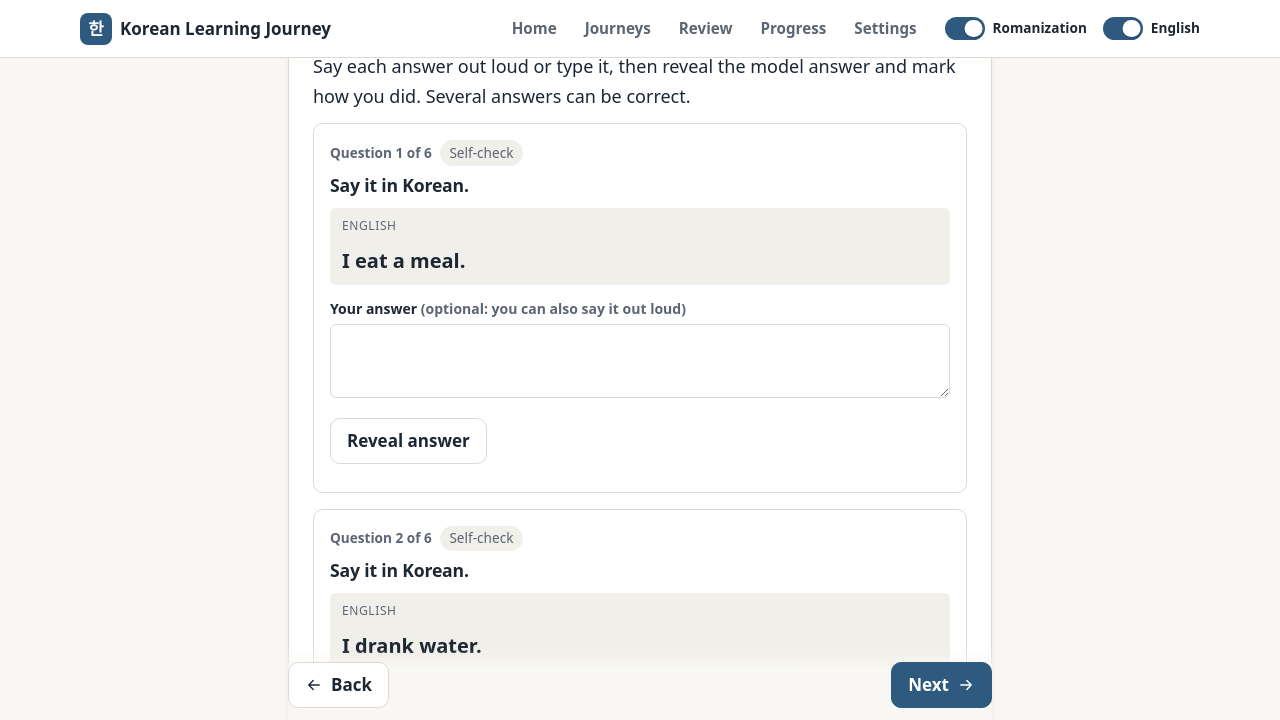
Scenario: lesson reader › does not reveal self-check answers before the learner tries
(page scrolled)
Expected: the text "Naneun babeul meogeo." is not shown
Step 1. Type "밥 먹어" into the text box → [640, 361], box [330,324,950,398]
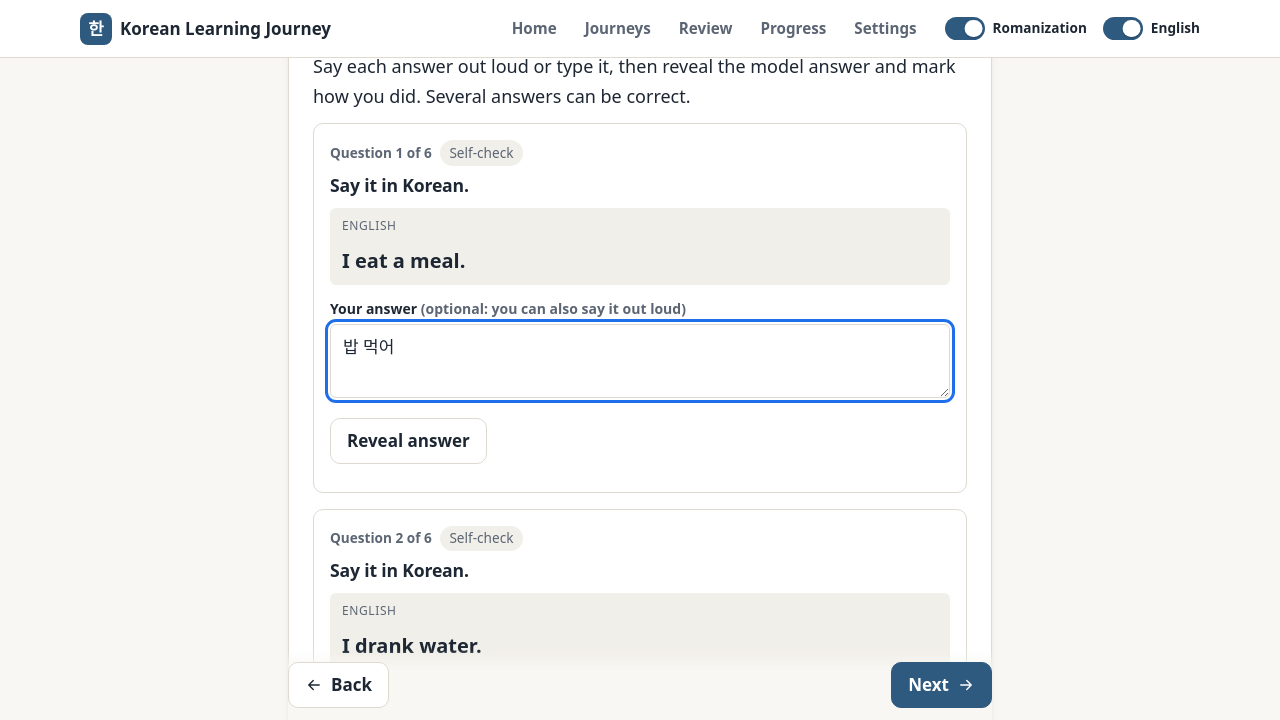
Step 2. Click the button "Reveal answer" → [408, 441], box [330,418,487,464]
(page scrolled)
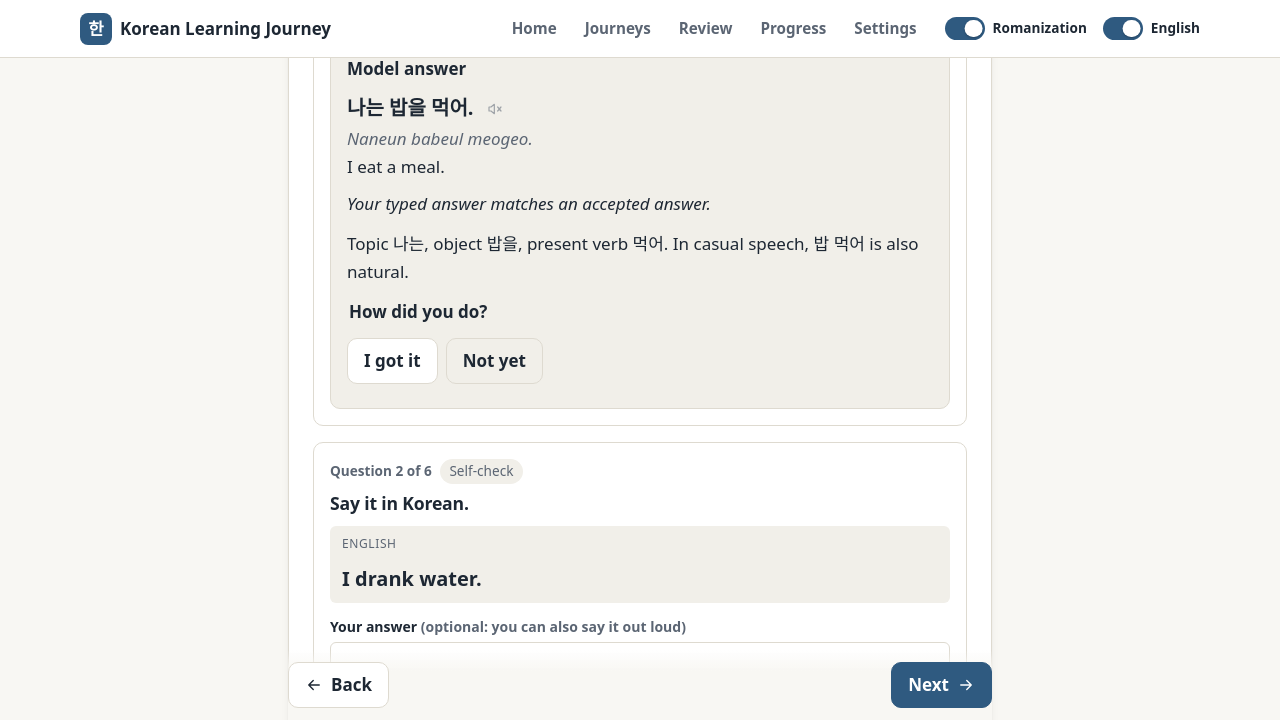
Result: the text "Your typed answer matches an accepted answer." is shown at [347,192,711,214]
Step 3. Click the button "I got it" → [392, 361], box [347,338,438,384]
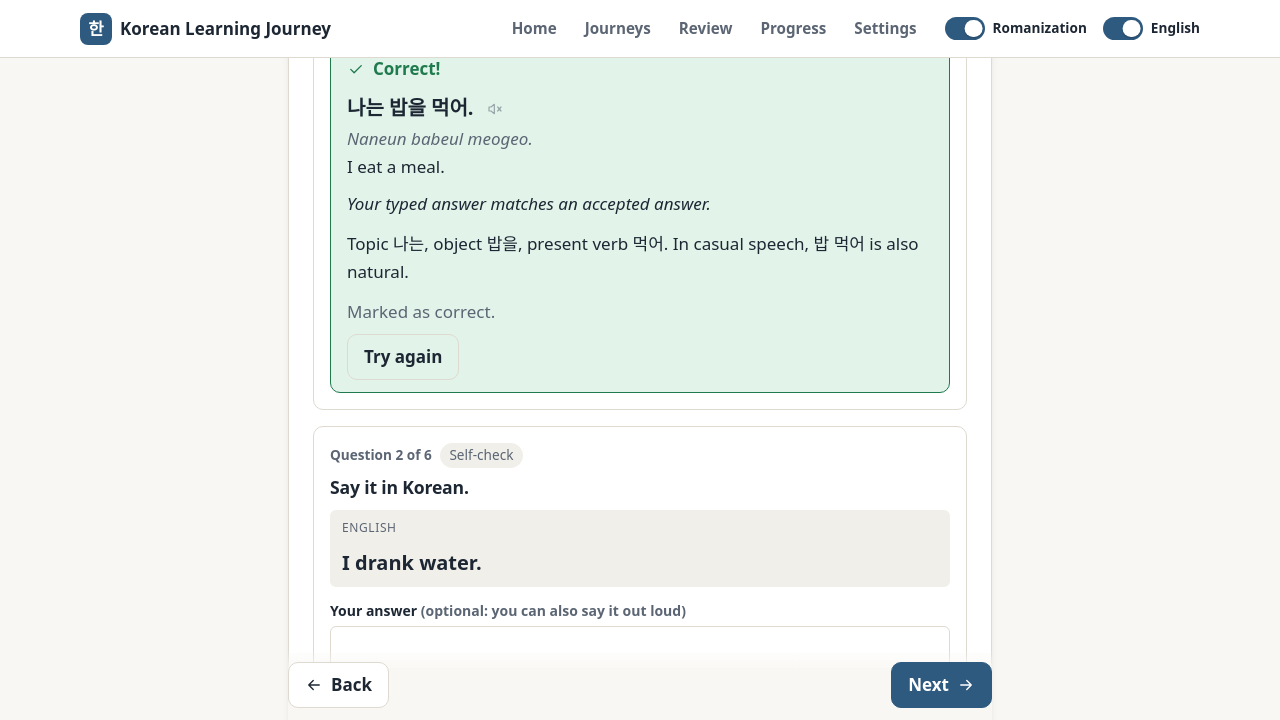
Result: the text "Marked as correct." is shown at [347,300,495,323]
